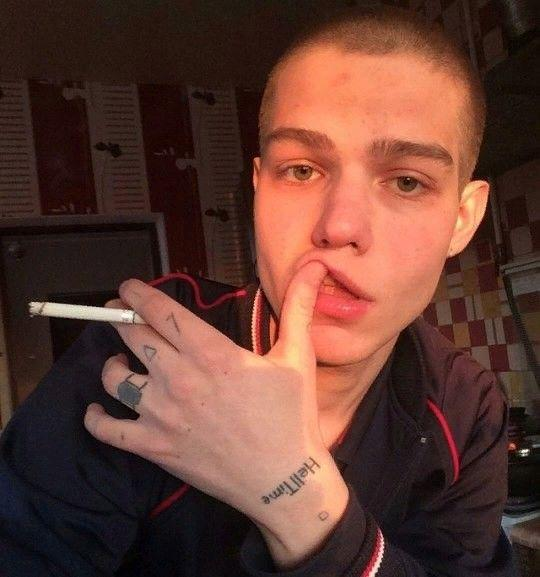cigarette: (29, 301, 147, 324)
